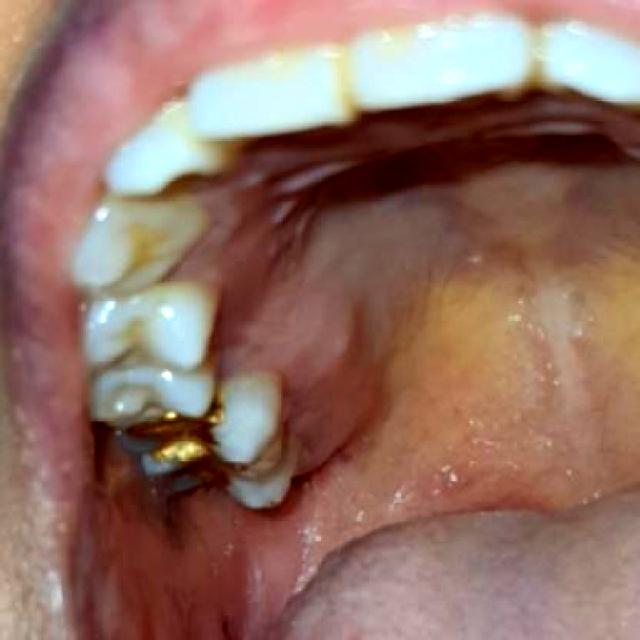Plaque: (227, 355, 327, 482)
